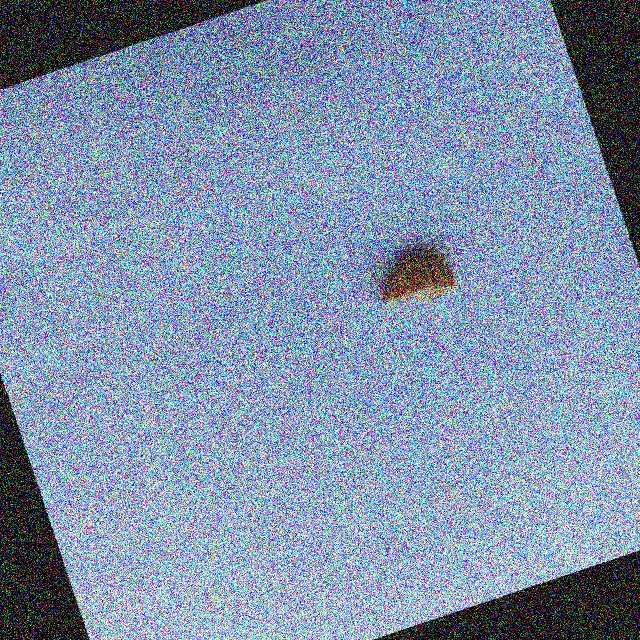grade4: (361, 233, 467, 322)
